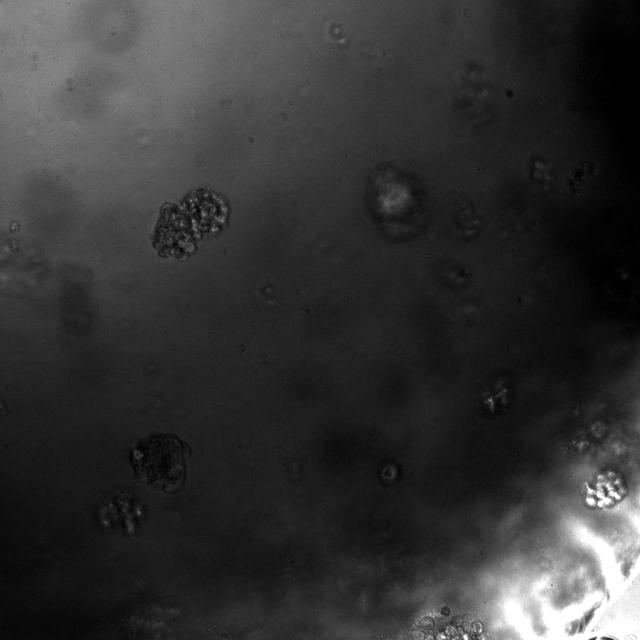organoid: (150, 187, 230, 260), (365, 162, 426, 241), (371, 606, 486, 639), (130, 432, 191, 493), (93, 486, 147, 536), (584, 470, 628, 508), (481, 376, 514, 416), (571, 421, 606, 454), (378, 459, 401, 485)
